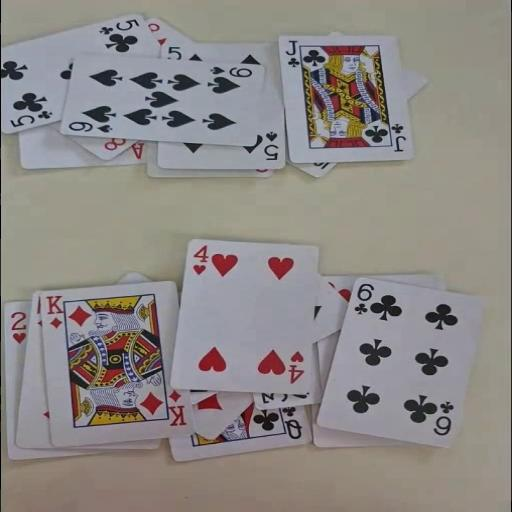2: (8, 310, 30, 344)
4: (286, 349, 306, 385), (190, 243, 210, 276)
5: (7, 109, 54, 128), (96, 17, 140, 36), (262, 129, 280, 161)
6: (430, 399, 456, 436), (351, 282, 376, 316)
8: (100, 136, 128, 151)
9: (66, 119, 112, 133), (208, 64, 254, 78)
J: (388, 121, 407, 153), (284, 39, 300, 68)
K: (44, 293, 65, 330)
